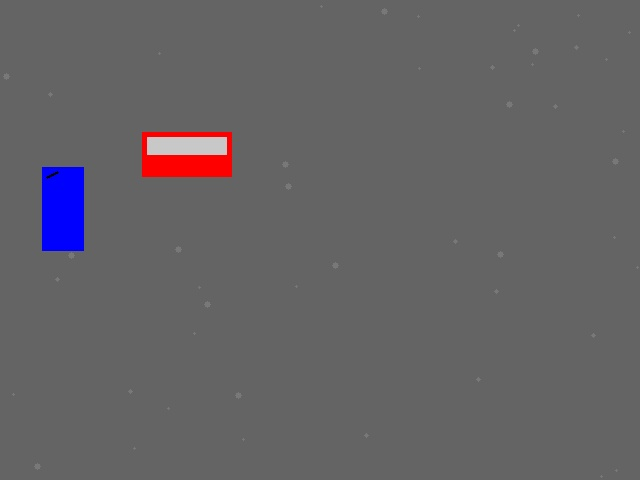car: (142, 132, 231, 176)
motorcycle: (42, 167, 83, 250)
